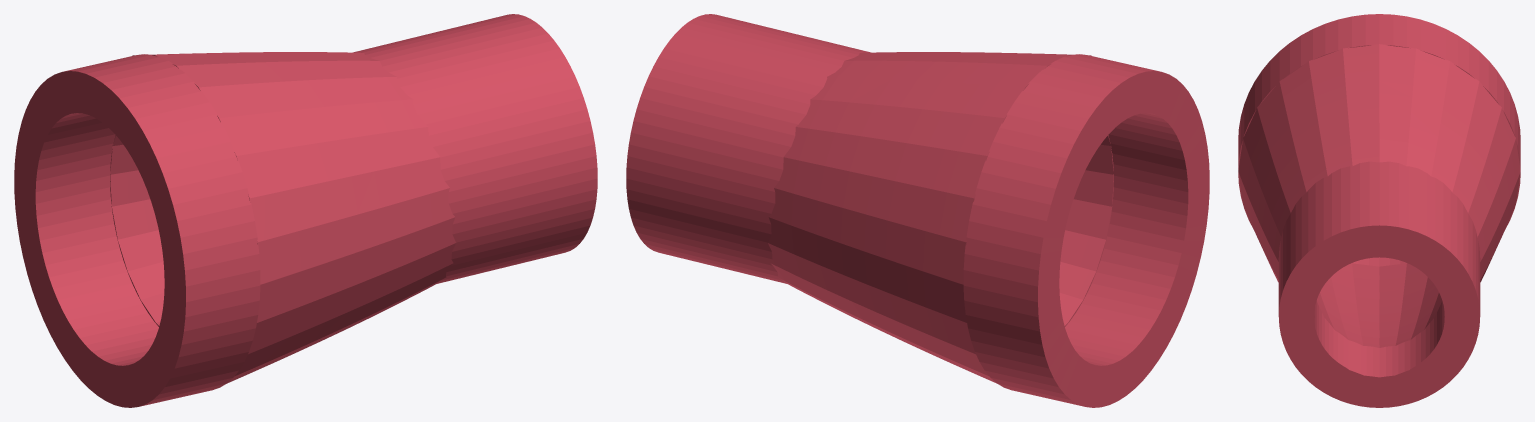
File: Câmara descontaminação do ar (tubular) - COVID-19 conector ambu-DN35.glb
The picture shows the model from 3 angles, left to right: view 1: azimuth 30°, elevation 25°; view 2: azimuth 150°, elevation 25°; view 3: azimuth 270°, elevation 25°; orthographic projection. The views are drawn at different scales.
Parts seen in each view (by area): view 1: Mesh_Mesh_head_geo.001_lambert2SG.001; view 2: Mesh_Mesh_head_geo.001_lambert2SG.001; view 3: Mesh_Mesh_head_geo.001_lambert2SG.001.
Part boxes in pixels (left/top/right/bottom): Mesh_Mesh_head_geo.001_lambert2SG.001: left=14, top=14, right=597, bottom=407; Mesh_Mesh_head_geo.001_lambert2SG.001: left=626, top=14, right=1209, bottom=407; Mesh_Mesh_head_geo.001_lambert2SG.001: left=1238, top=14, right=1520, bottom=407.
Bounding box in the file's own units: 59.48 × 40.17 × 40.
